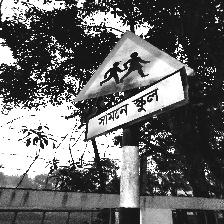School-in-front: (73, 31, 194, 142)
